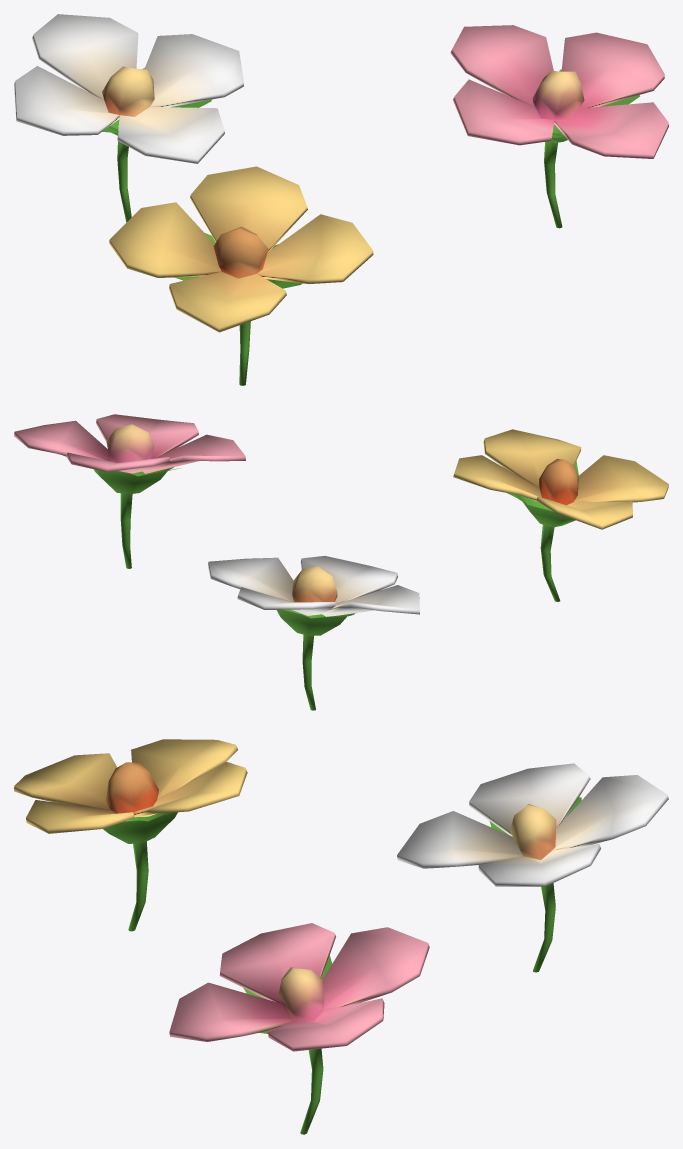
File: 3DObj_Flower.fbx
3 renders of one model, top to bottom at view 1: azimuth 30°, elevation 25°; view 2: azimuth 150°, elevation 25°; view 3: azimuth 270°, elevation 25°, orthographic. The views are drawn at different scales.
Visible parts, largest first — view 1: 3DObj_FlowerYellow, 3DObj_FlowerWhite, 3DObj_FlowerPink; view 2: 3DObj_FlowerYellow, 3DObj_FlowerWhite, 3DObj_FlowerPink; view 3: 3DObj_FlowerPink, 3DObj_FlowerWhite, 3DObj_FlowerYellow.
Part boxes in pixels (x1,y1,x2,y2): 3DObj_FlowerYellow: [109, 166, 373, 385]; 3DObj_FlowerWhite: [14, 14, 243, 222]; 3DObj_FlowerPink: [450, 25, 668, 228]; 3DObj_FlowerYellow: [453, 429, 668, 601]; 3DObj_FlowerWhite: [208, 556, 419, 710]; 3DObj_FlowerPink: [14, 414, 245, 568]; 3DObj_FlowerPink: [169, 923, 429, 1134]; 3DObj_FlowerWhite: [397, 763, 668, 972]; 3DObj_FlowerYellow: [14, 739, 247, 931].
Size of the model in its own units: 48.42 by 12.57 by 43.31.
3 materials, 3 textured.
